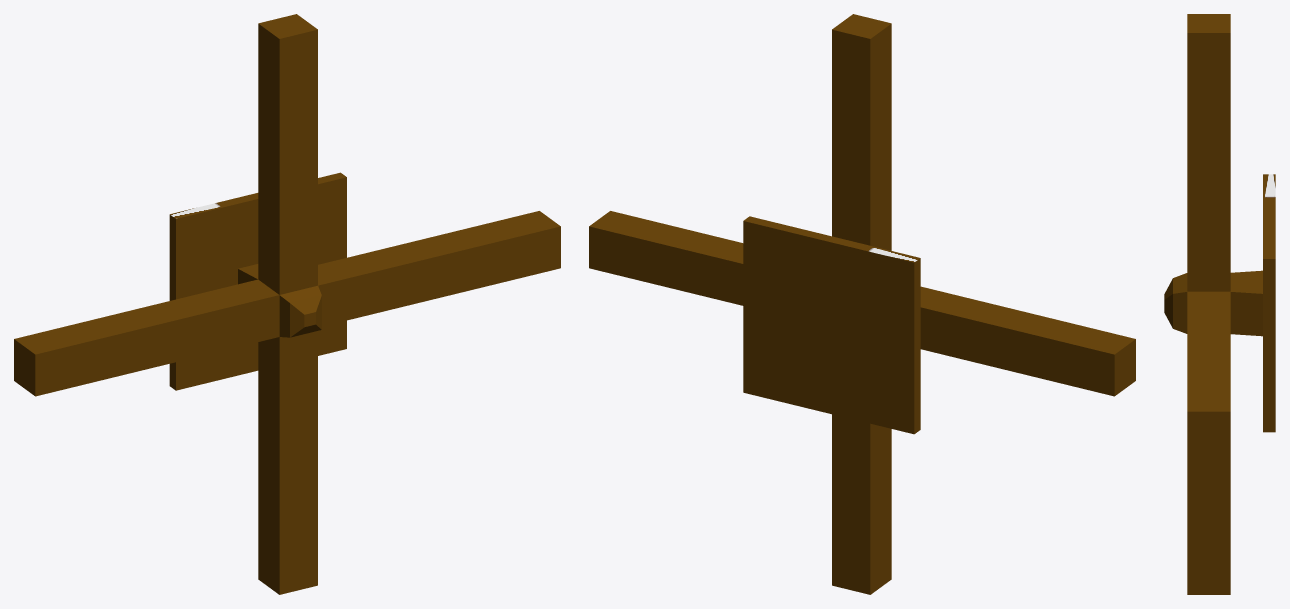
Rendered from Windmill.glb.
The picture shows the model from 3 angles, left to right: view 1: azimuth 30°, elevation 25°; view 2: azimuth 150°, elevation 25°; view 3: azimuth 270°, elevation 25°; orthographic projection.
Visible parts, largest first — view 1: Cube; view 2: Cube; view 3: Cube.
Boxes of the visible parts, left/top/right/bottom form: Cube: left=14, top=14, right=560, bottom=594; Cube: left=589, top=14, right=1135, bottom=594; Cube: left=1164, top=14, right=1275, bottom=594.
Bounding box in the file's own units: 1.04 × 1.05 × 0.1881.
Materials: 1 (1 with a texture image).
